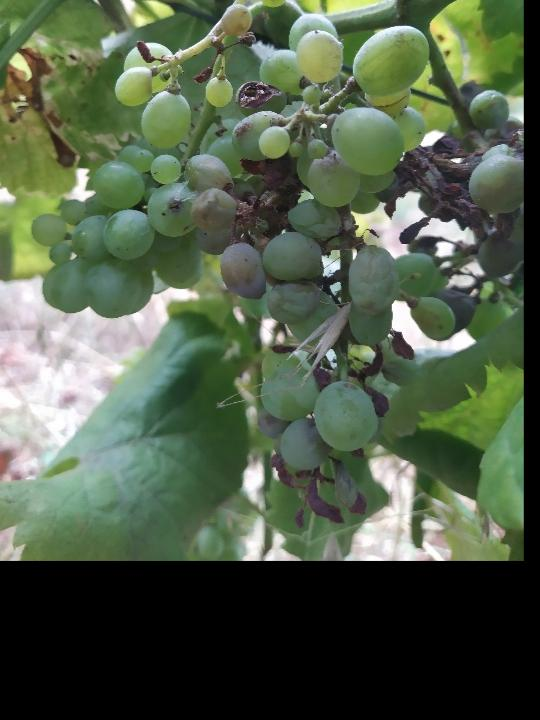grape: (182, 9, 523, 532)
